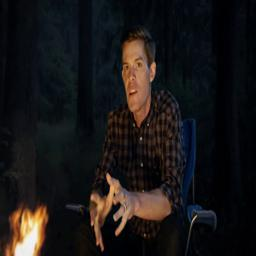fire: (4, 205, 49, 256)
